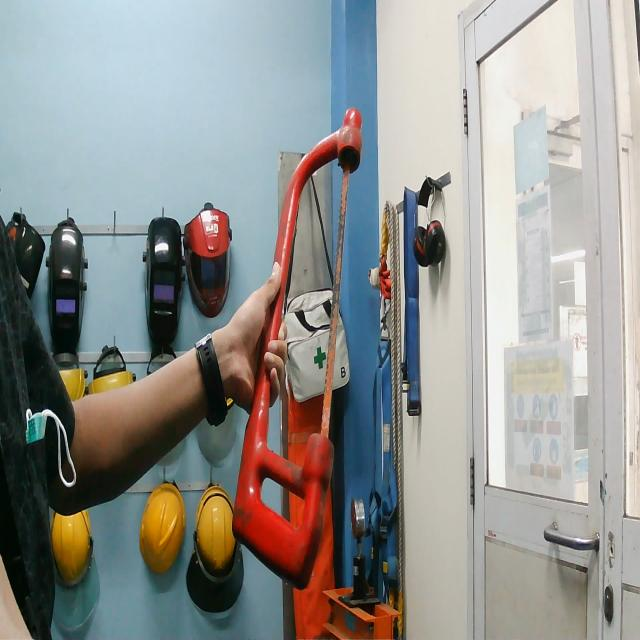gergaji_besi: (215, 78, 370, 605)
